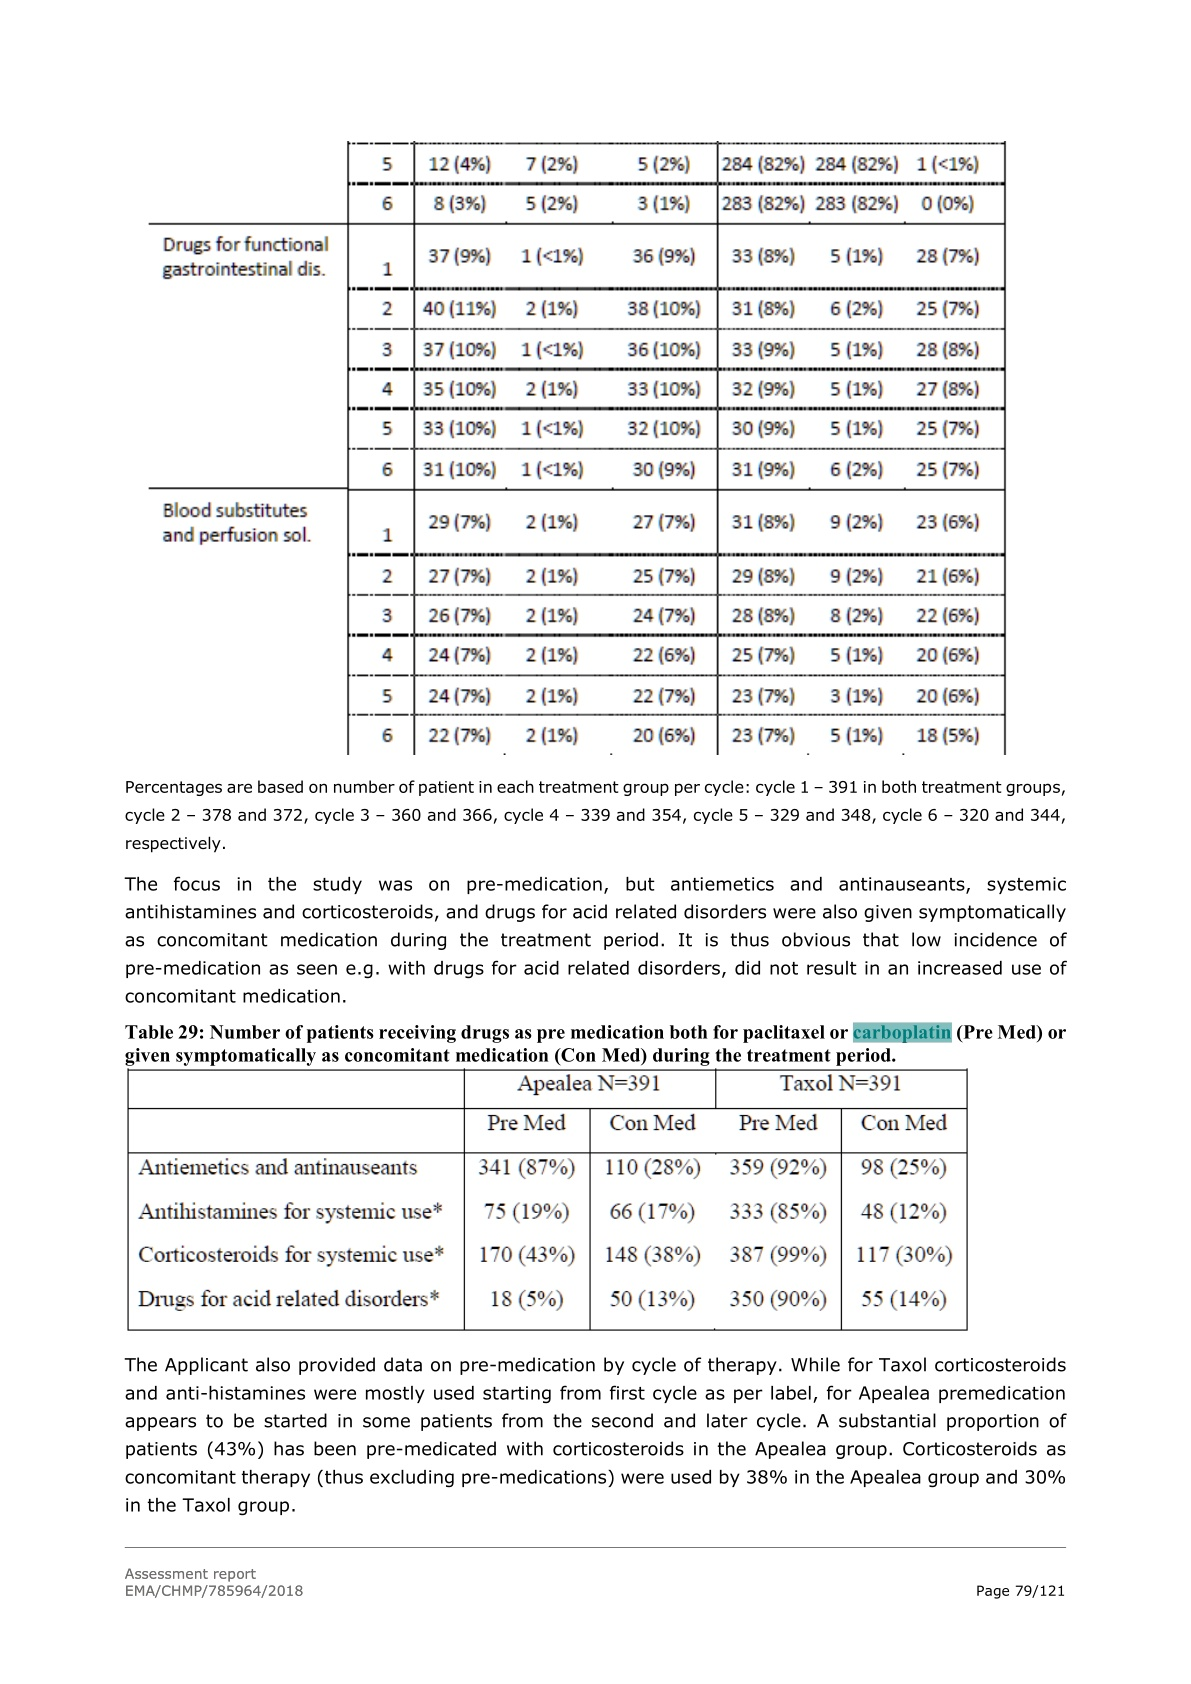merged_cells: (128, 1068, 969, 1332)
partial_lined_merged_cells: (148, 140, 1008, 758)
